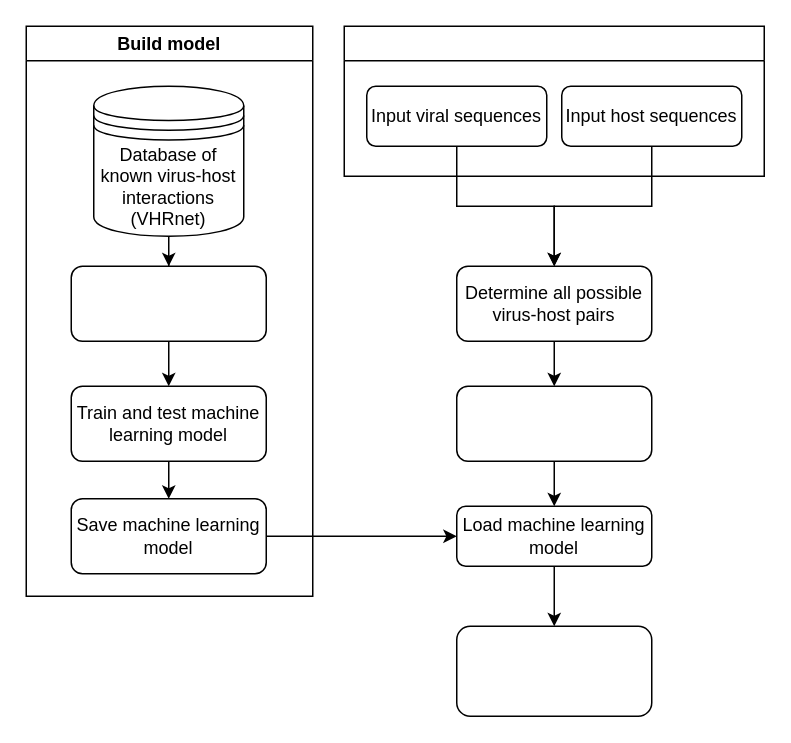
The diagram is 791 pixels wide and 743 high, and some of its shapes have lost their labels. The shapes that lost their labels are listed below. From the top down, each one's centre as x and y in pixels, then its label:
At (x=553, y=100): "User input".
At (x=168, y=303): "For each pair, compute features".
At (x=553, y=423): "Compute signals of coevolution for each pair".
At (x=553, y=670): "Predict interaction and return a dataframe as output".
